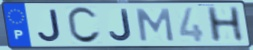4: (178, 6, 206, 43)
C: (66, 6, 103, 46)
H: (204, 6, 247, 45)
J: (36, 8, 63, 43), (108, 8, 135, 43)
M: (134, 8, 176, 44)
